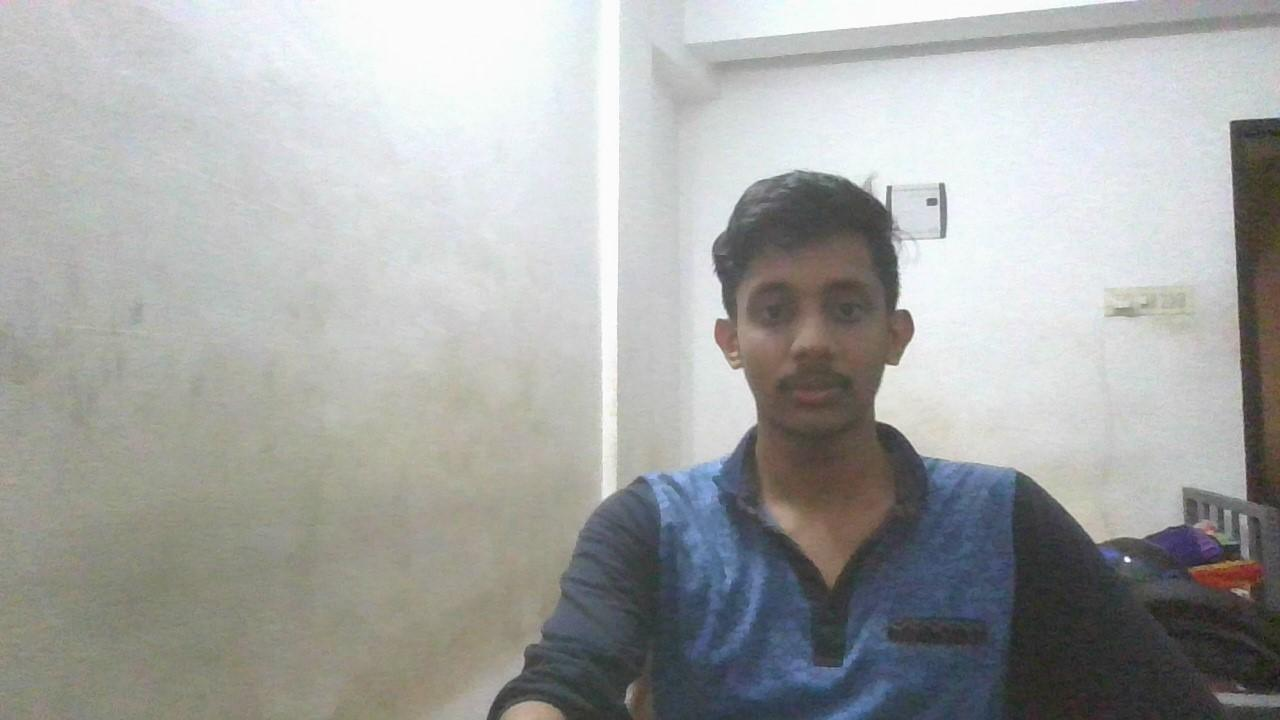nohelmet: (712, 169, 917, 448)
